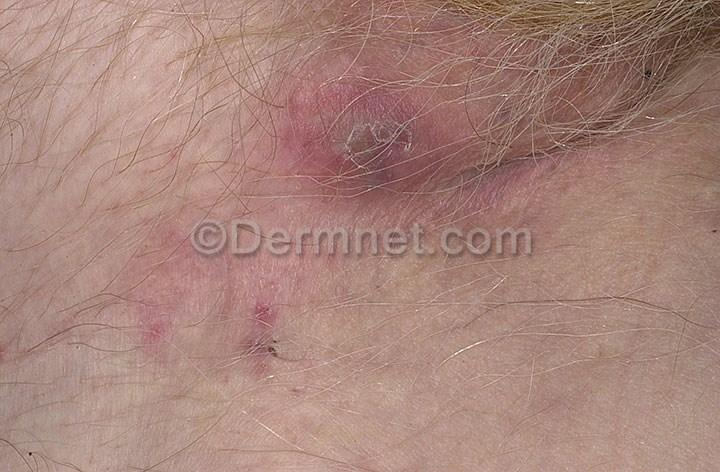Acne: (316, 96, 432, 197), (204, 277, 307, 375)
